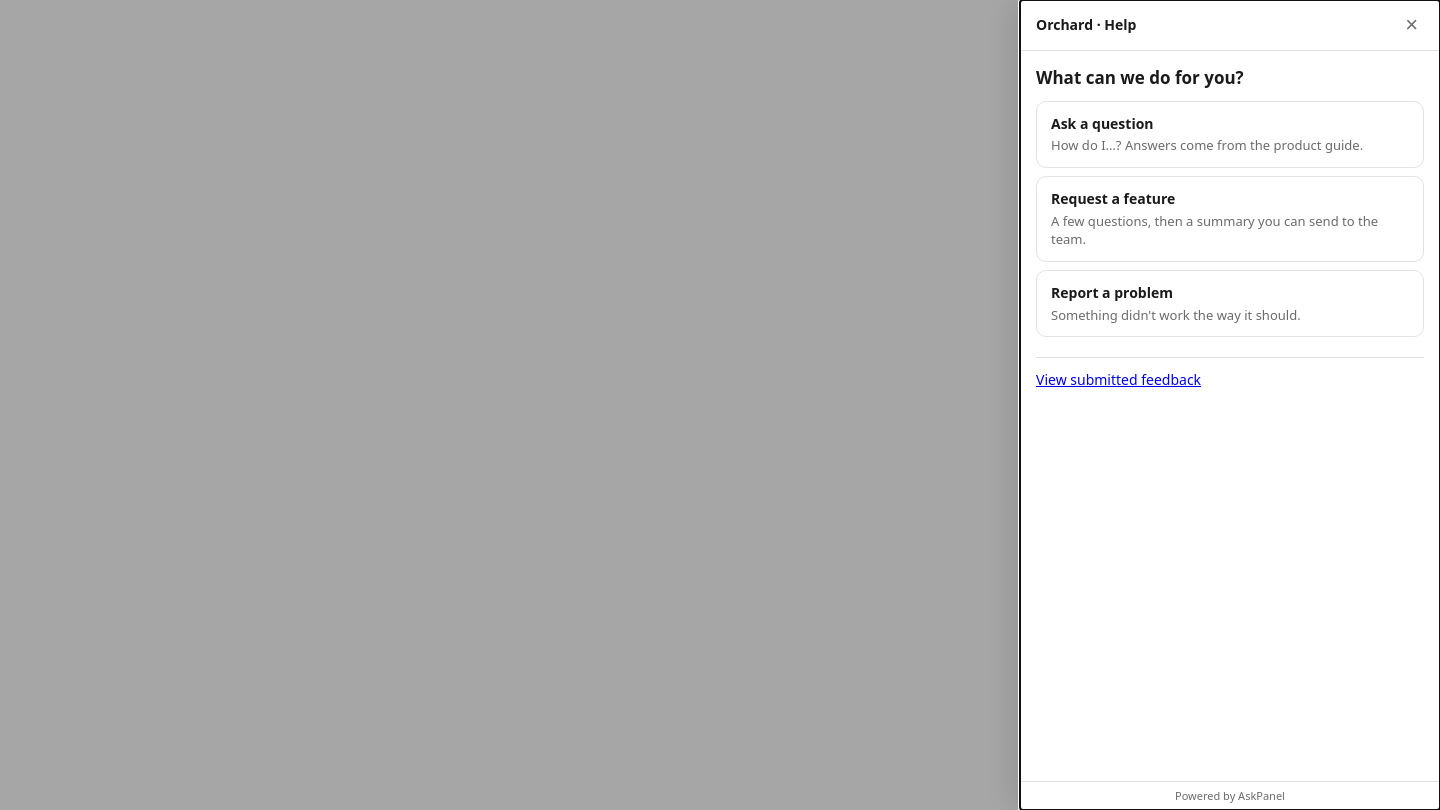
Test case: AskPanel › renders the footer slot on the entry screen only
Expected: the link "View submitted feedback" is shown, [1036, 370, 1201, 389]
Click the text "Ask a question" at (1102, 124), box [1051, 114, 1154, 134]
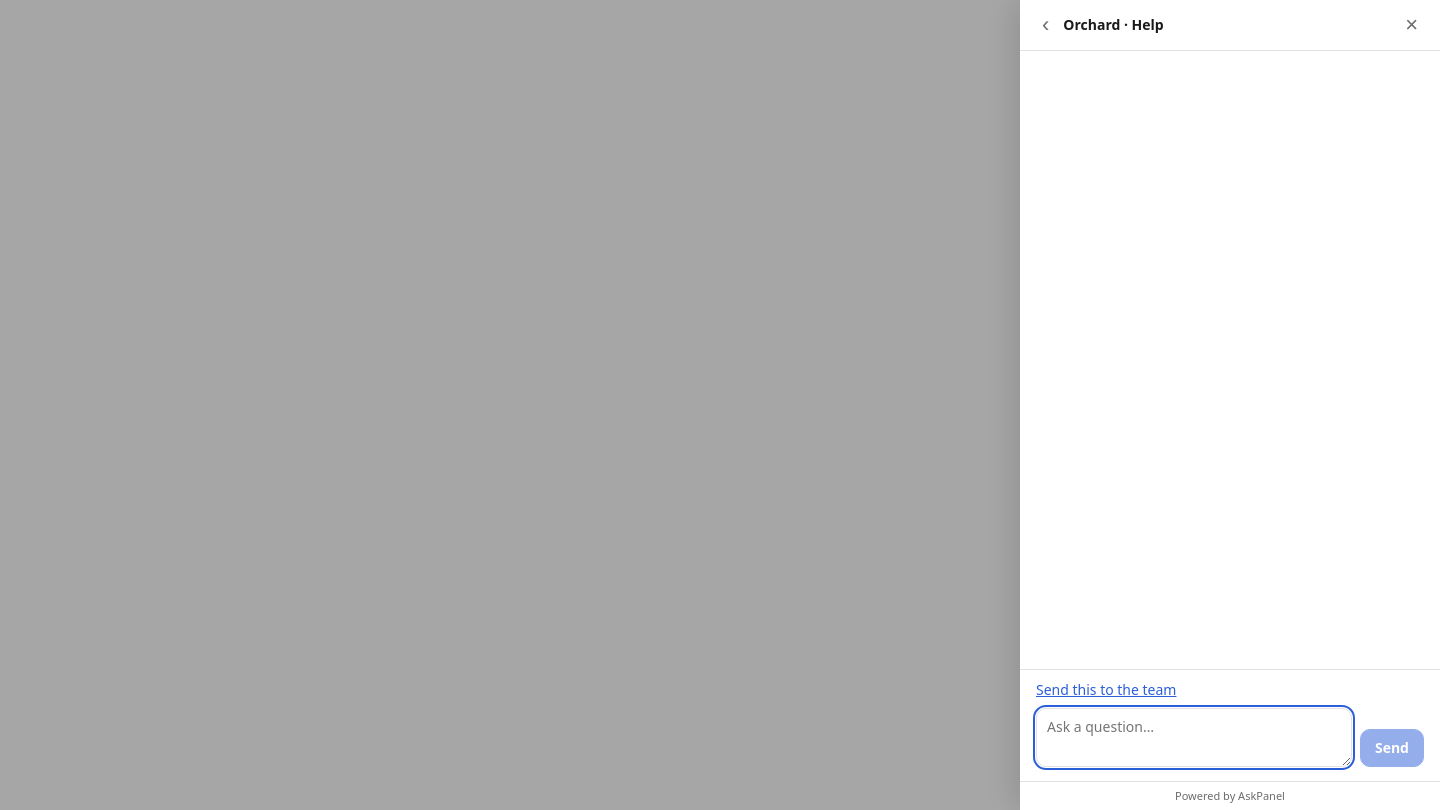
Now the link "View submitted feedback" is gone
